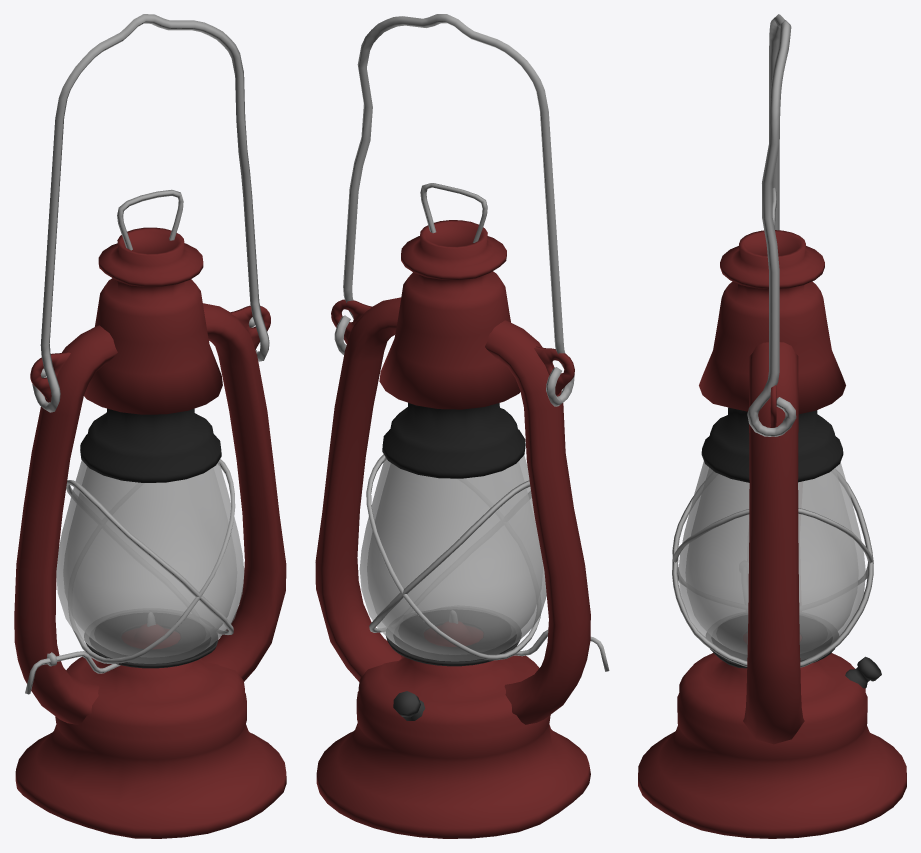
The model's file is lamp.glb.
3 views of the same model, side by side, from view 1: azimuth 30°, elevation 25°; view 2: azimuth 150°, elevation 25°; view 3: azimuth 270°, elevation 25° (orthographic).
Parts seen in each view (by area): view 1: polySurface12, pCylinder2, polySurface17, polySurface18, polySurface10, polySurface7, polySurface1, polySurface19, polySurface15, polySurface8, polySurface9, polySurface2 (+3 smaller); view 2: polySurface12, pCylinder2, polySurface17, polySurface18, polySurface10, polySurface7, polySurface19, polySurface1, polySurface15, polySurface8, polySurface9, polySurface2 (+3 smaller); view 3: polySurface12, pCylinder2, polySurface7, polySurface17, polySurface18, polySurface1, polySurface19, polySurface9, polySurface15, polySurface8, polySurface11.
Boxes of the visible parts, x1,y1,x2,y2 form: polySurface12: [15, 624, 286, 838]; pCylinder2: [56, 460, 244, 663]; polySurface17: [63, 466, 236, 657]; polySurface18: [84, 227, 222, 414]; polySurface10: [14, 325, 117, 724]; polySurface7: [201, 303, 286, 681]; polySurface1: [32, 14, 269, 412]; polySurface19: [80, 408, 221, 482]; polySurface15: [84, 612, 218, 668]; polySurface8: [68, 459, 235, 663]; polySurface9: [66, 480, 233, 634]; polySurface2: [117, 189, 183, 250]; polySurface12: [316, 621, 590, 838]; pCylinder2: [359, 455, 546, 661]; polySurface17: [367, 461, 542, 654]; polySurface18: [379, 220, 520, 409]; polySurface10: [485, 320, 590, 724]; polySurface7: [315, 297, 401, 681]; polySurface19: [382, 402, 525, 478]; polySurface1: [334, 14, 574, 406]; polySurface15: [386, 609, 521, 666]; polySurface8: [366, 454, 541, 660]; polySurface9: [369, 480, 531, 632]; polySurface2: [420, 183, 487, 242]; polySurface12: [638, 633, 906, 838]; pCylinder2: [678, 461, 865, 660]; polySurface7: [743, 342, 804, 744]; polySurface17: [685, 468, 858, 654]; polySurface18: [699, 230, 845, 414]; polySurface1: [747, 14, 796, 436]; polySurface19: [701, 407, 843, 482]; polySurface9: [672, 470, 873, 667]; polySurface15: [706, 615, 838, 668]; polySurface8: [672, 508, 873, 586]; polySurface11: [845, 656, 881, 688].
Size of the model in its own units: 0.3348 by 0.8982 by 0.2877.
